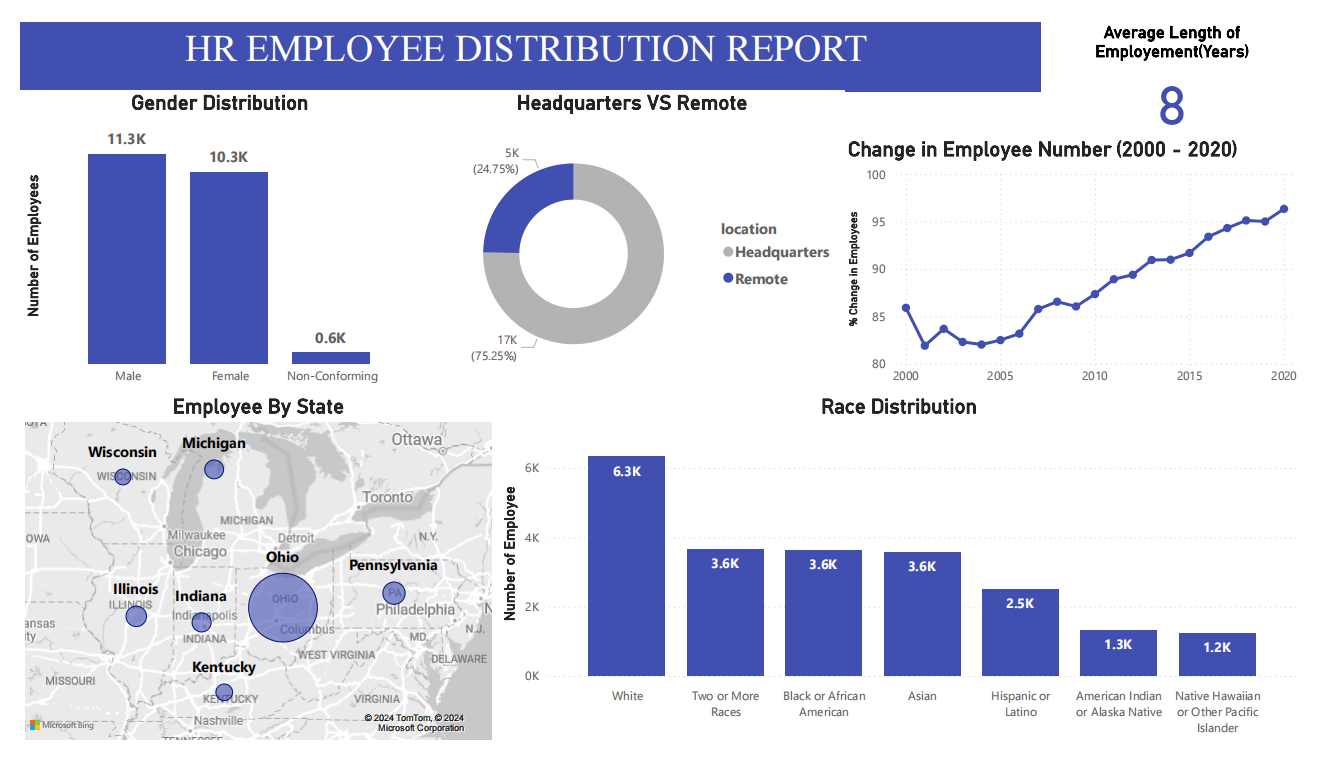

This screenshot's page, from the dashboard's own definition file:
{"tool":"powerbi","page":{"name":"Page 1","canvas":[1280,720],"ordinal":0},"visuals":[{"type":"textbox","box":[10,0,280,280],"z":0},{"type":"textbox","box":[9.8,13.5,780.2,66],"z":1000},{"type":"textbox","box":[0,0,1019.6,68.6],"z":2000},{"type":"card","title":"Average Length of Employement(Years)","fields":{"Values":["Sum(avg_length_employment.avg_lenght_employment)"]},"box":[1019.6,0,260.7,115.3],"z":3000},{"type":"columnChart","title":"Gender Distribution","fields":{"Category":["gender.gender"],"Y":["Sum(gender.count)"]},"box":[0,68.6,399.3,303.3],"z":4000},{"type":"donutChart","title":"Headquarters VS  Remote","fields":{"Y":["Sum(location.count)"],"Category":["location.location"]},"box":[399.3,68.6,422.6,303.3],"z":4001},{"type":"lineChart","title":"Change in Employee Number (2000 - 2020)","fields":{"Category":["timebased_hire_term.year"],"Y":["Sum(timebased_hire_term.net_change_percent)"]},"box":[822,115.3,458.3,256.6],"z":4002},{"type":"map","title":"Employee By State","fields":{"Size":["Sum(location_state.count)"],"Category":["location_state.location_state"]},"box":[0,371.9,476.2,349.9],"z":4003},{"type":"clusteredColumnChart","title":"Race Distribution","fields":{"Y":["Sum(race.count)"],"Category":["race.race"]},"box":[476.2,371.9,804.1,348.5],"z":4004}]}

Visuals, with their boxes in screenshot pixels (x1, y1, x2, y2), scaled from the page's 1280x720 canvas onto the 1324x767 screenshot:
textbox: (x1=10, y1=0, x2=300, y2=298)
textbox: (x1=10, y1=14, x2=817, y2=85)
textbox: (x1=0, y1=0, x2=1055, y2=73)
"Average Length of Employement(Years)" card: (x1=1055, y1=0, x2=1323, y2=123)
"Gender Distribution" columnChart: (x1=0, y1=73, x2=413, y2=396)
"Headquarters VS  Remote" donutChart: (x1=413, y1=73, x2=850, y2=396)
"Change in Employee Number (2000 - 2020)" lineChart: (x1=850, y1=123, x2=1323, y2=396)
"Employee By State" map: (x1=0, y1=396, x2=493, y2=766)
"Race Distribution" clusteredColumnChart: (x1=493, y1=396, x2=1323, y2=766)
